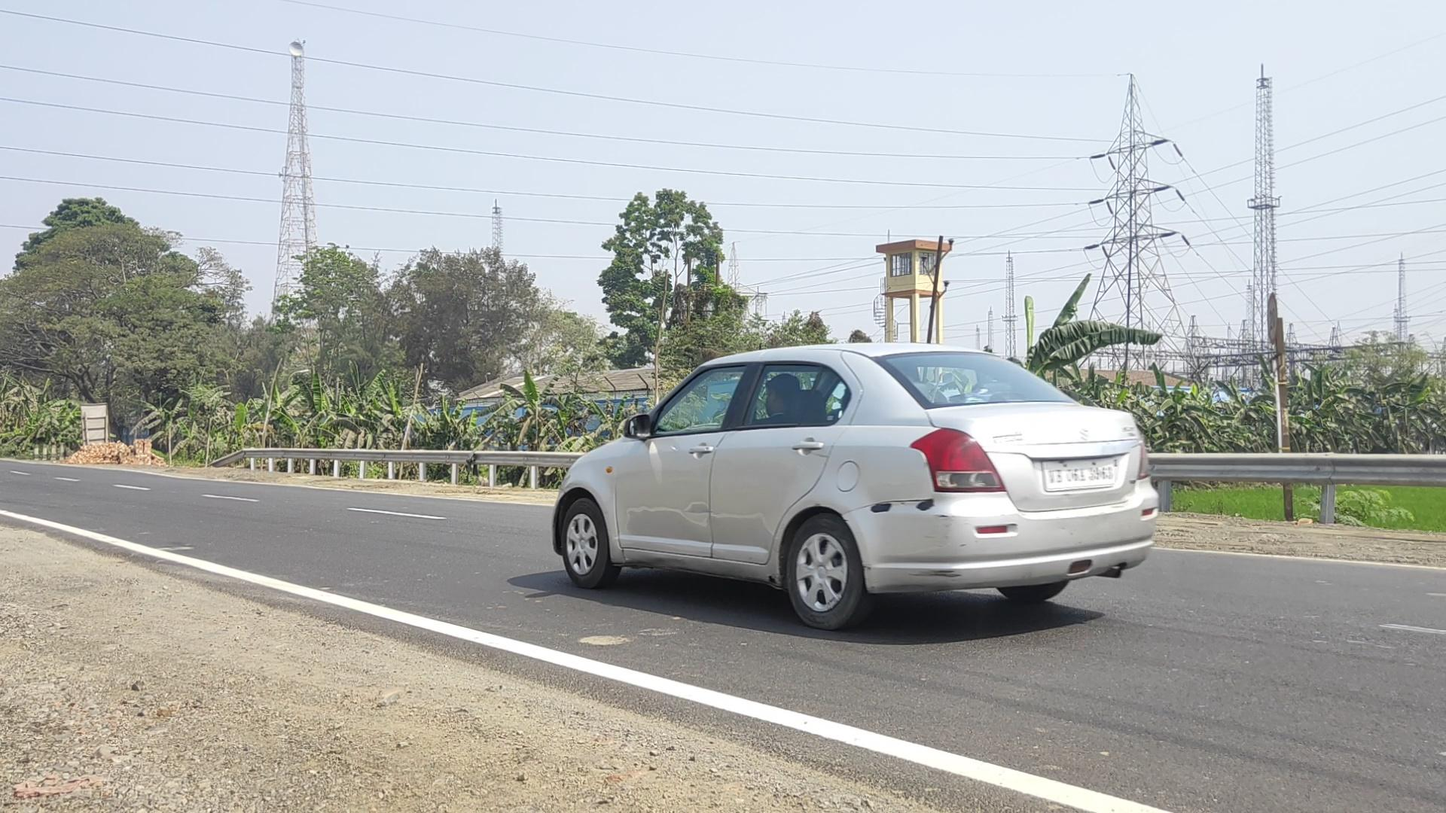car: (551, 343, 1159, 632)
